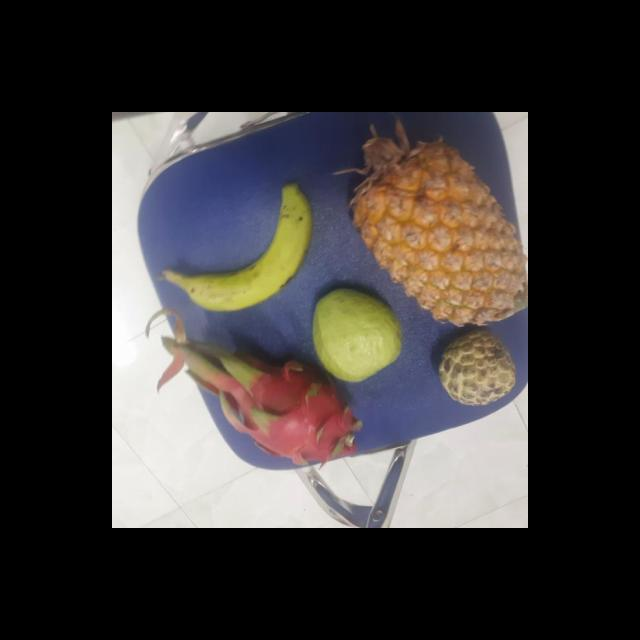Sakya fruit: (434, 328, 517, 404)
banana: (165, 192, 314, 310)
guava: (309, 288, 403, 382)
pitaya: (231, 354, 355, 468)
